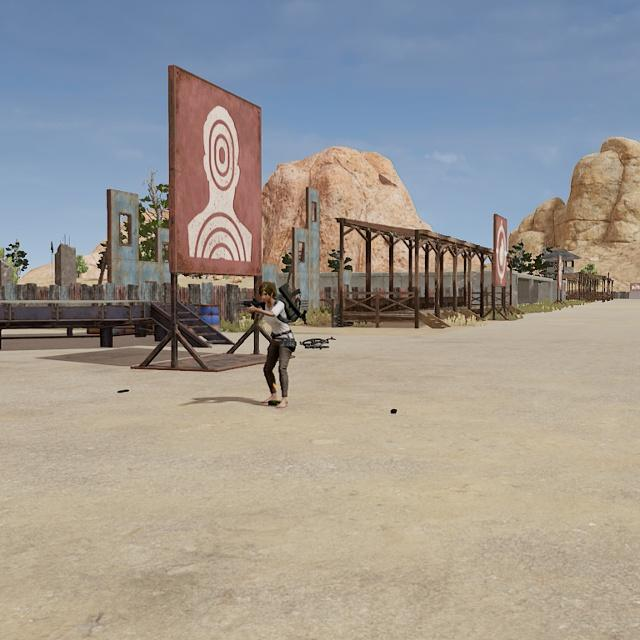head: (259, 282, 277, 304)
people: (255, 281, 297, 411)
